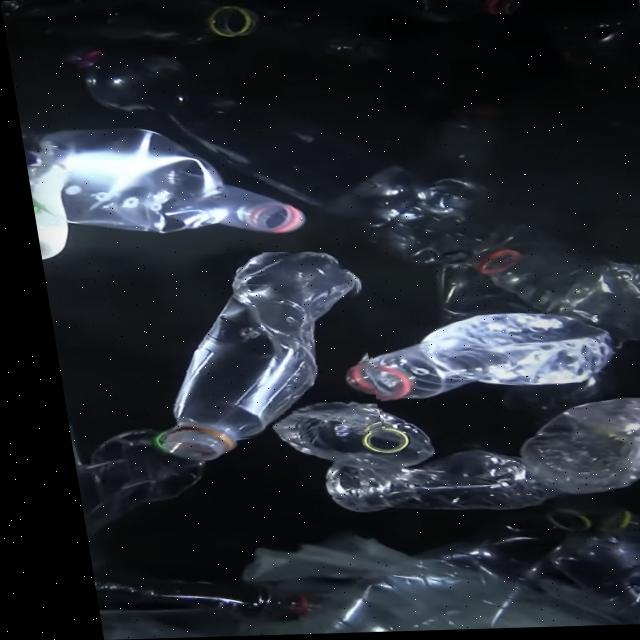litter: (140, 252, 347, 441)
